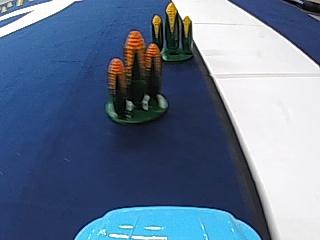corn: (104, 30, 166, 127), (149, 3, 196, 61)
